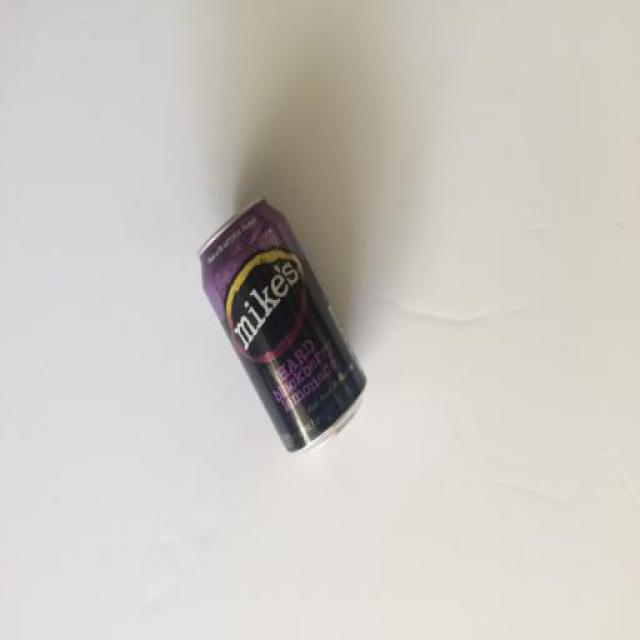metel: (185, 188, 382, 466)
